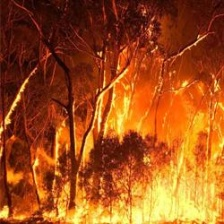fire: (124, 181, 220, 221), (98, 78, 138, 133), (55, 203, 123, 222)
